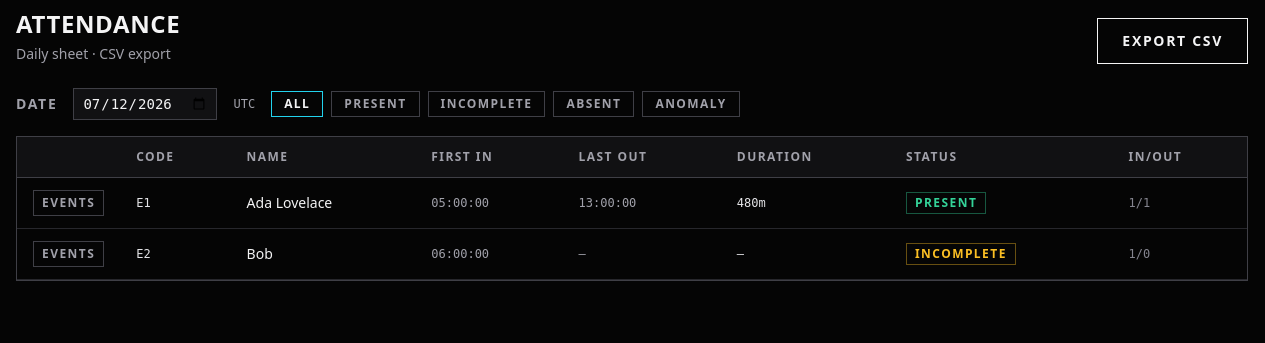
Attendance explainability › shows per-row empty without pairing error
Expected: the text "Bob" is shown, [231,228,415,280]
Click the button with test id "expand-2": coordinates (69, 254) [33,241,104,267]
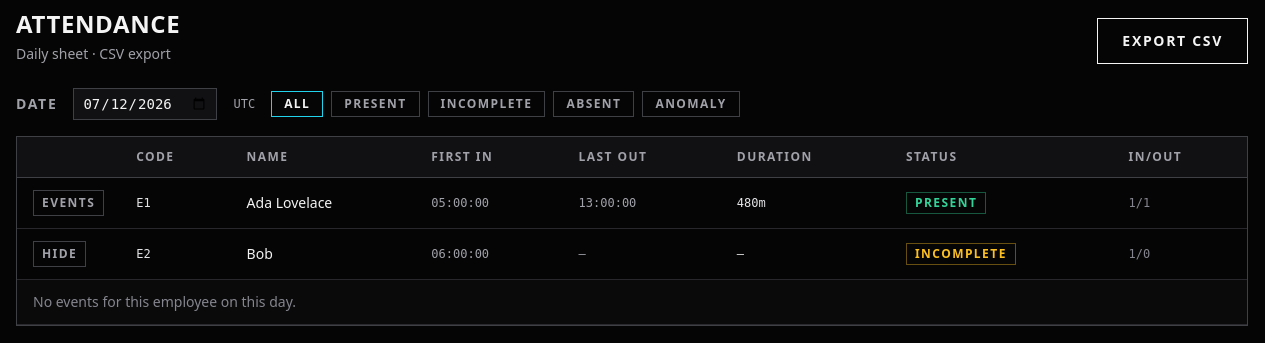
Expected: the text with test id "detail-empty-2" shows "No events", [33,292,296,311]
